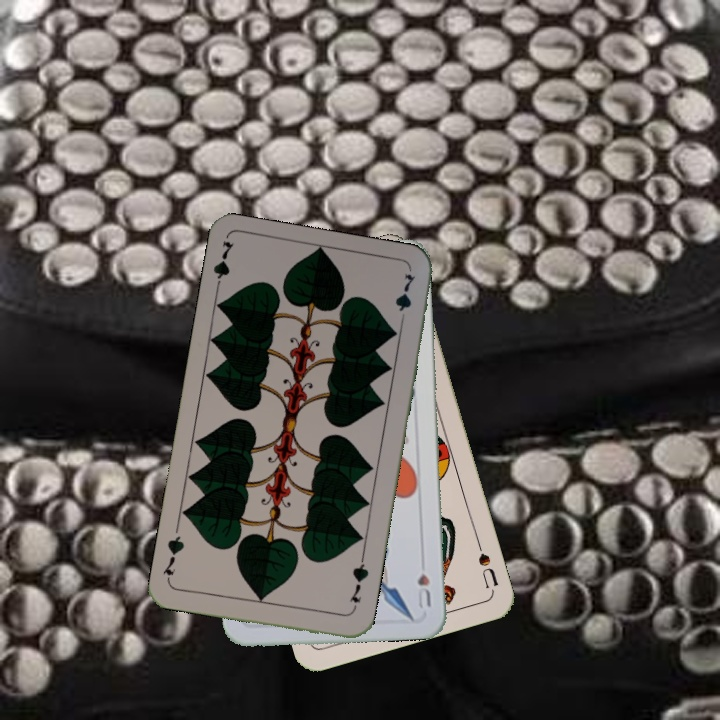G7: (209, 237, 237, 296), (345, 555, 371, 606)
HU: (414, 569, 433, 611)
SU: (472, 536, 501, 594)
